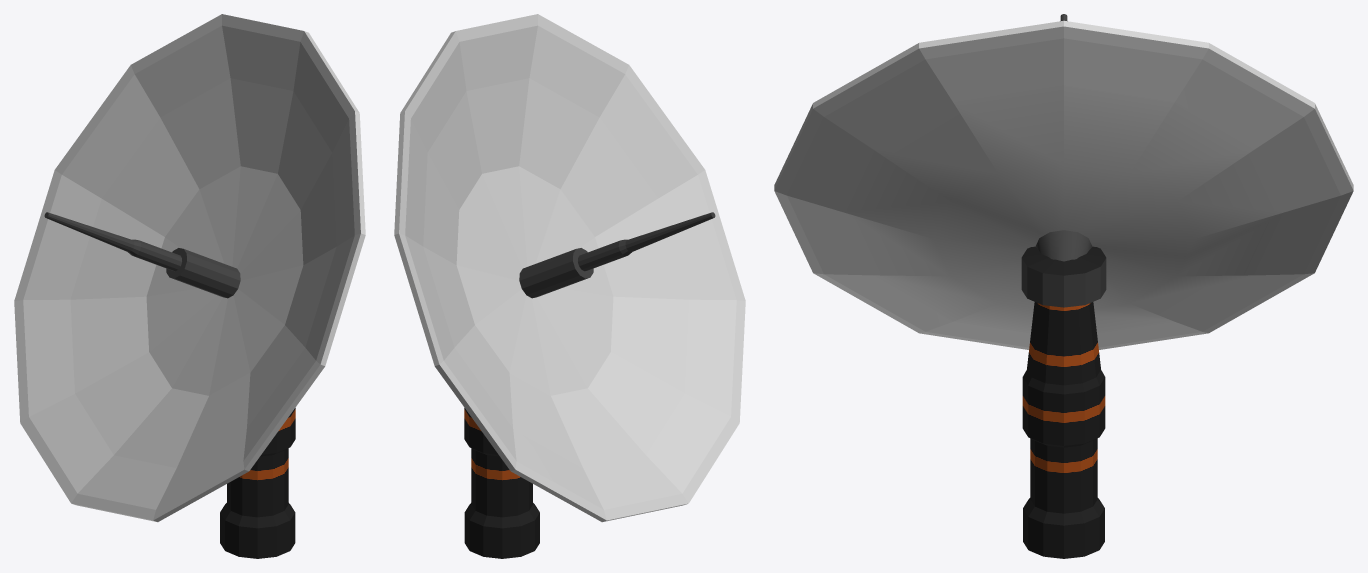
Rendered from Satellite_Dish.fbx.
3 views of the same model, side by side, from view 1: azimuth 30°, elevation 25°; view 2: azimuth 150°, elevation 25°; view 3: azimuth 270°, elevation 25° (orthographic). The views are drawn at different scales.
Parts seen in each view (by area): view 1: Dish, Satelite; view 2: Dish, Satelite; view 3: Dish, Satelite.
Part boxes in pixels (x1=…): Dish: x1=14, y1=14, x2=365, y2=522; Satelite: x1=220, y1=408, x2=295, y2=558; Dish: x1=394, y1=14, x2=745, y2=522; Satelite: x1=464, y1=408, x2=539, y2=558; Dish: x1=774, y1=14, x2=1353, y2=349; Satelite: x1=1021, y1=246, x2=1106, y2=558.
Bounding box in the file's own units: 12.61 × 22.88 × 22.02.
